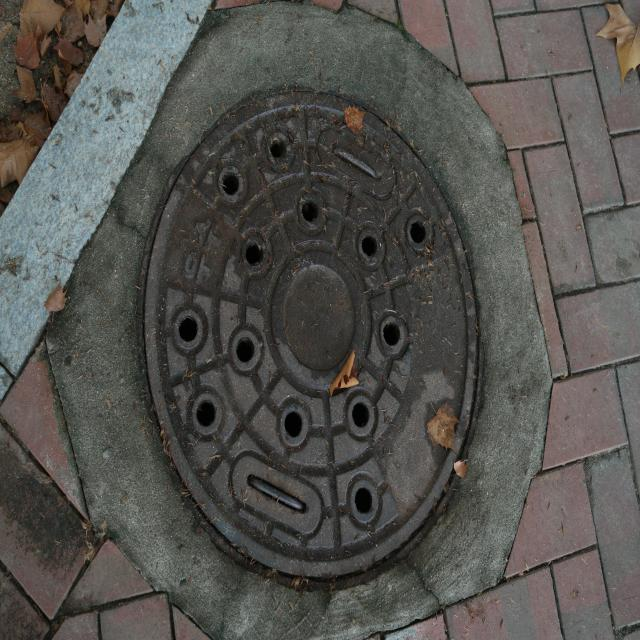manhole: (143, 89, 481, 589)
